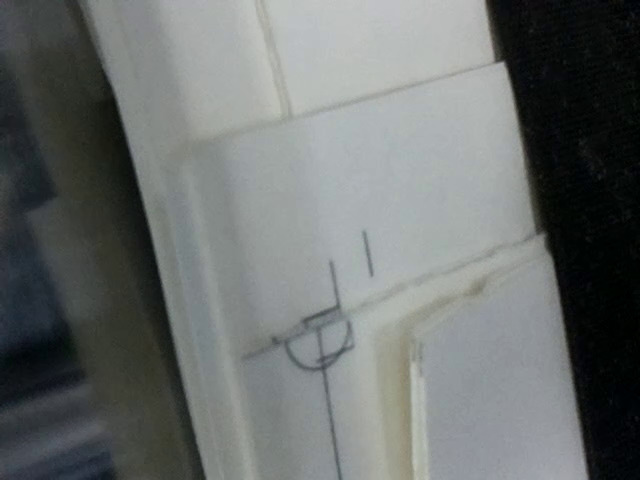misaligned: (228, 259, 374, 379)
